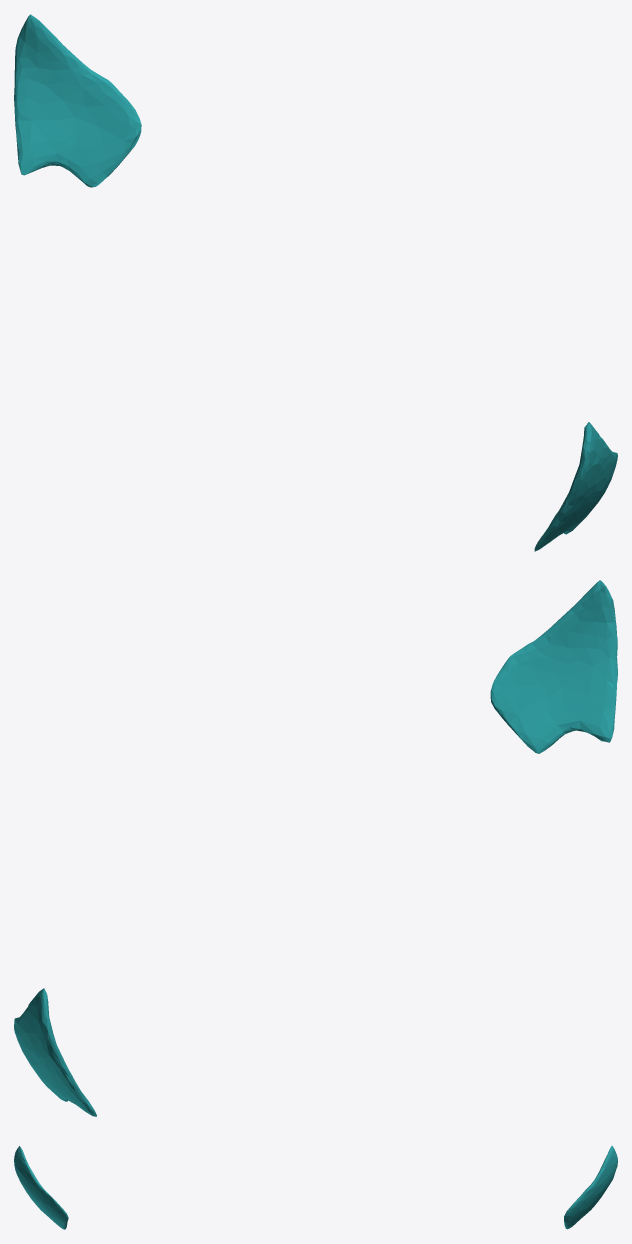
3 renders of one model, top to bottom at view 1: azimuth 30°, elevation 25°; view 2: azimuth 150°, elevation 25°; view 3: azimuth 270°, elevation 25°, orthographic. The views are drawn at different scales.
Parts seen in each view (by area): view 1: 312782632.obj; view 2: 312782632.obj; view 3: 312782632.obj.
Boxes of the visible parts, x1,y1,x2,y2 form: 312782632.obj: [14, 14, 617, 551]; 312782632.obj: [14, 580, 617, 1116]; 312782632.obj: [14, 1145, 617, 1229].
Size of the model in its own units: 964 by 1368 by 9518.
